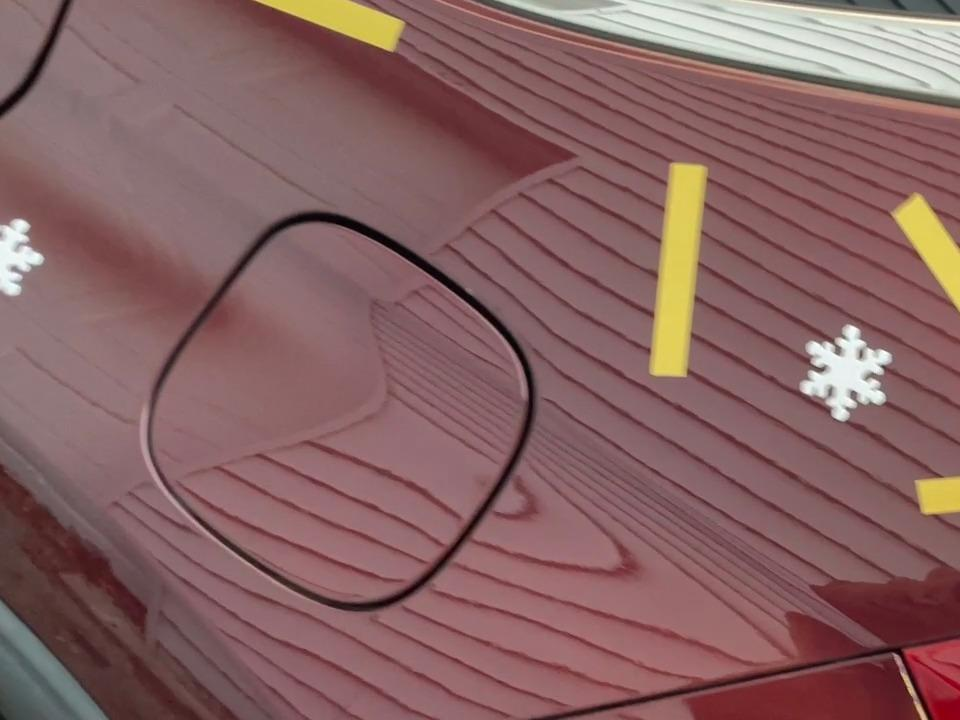dent: (791, 321, 904, 428)
scratch: (636, 154, 724, 390), (878, 183, 960, 352), (896, 461, 960, 519), (478, 718, 611, 720)
